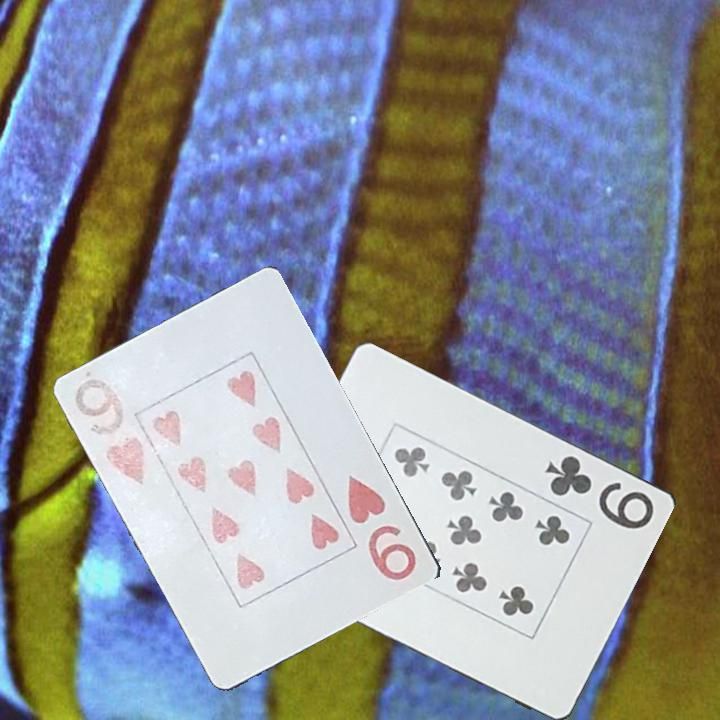9c: (541, 451, 658, 532)
9h: (71, 369, 152, 488), (344, 468, 421, 584)
